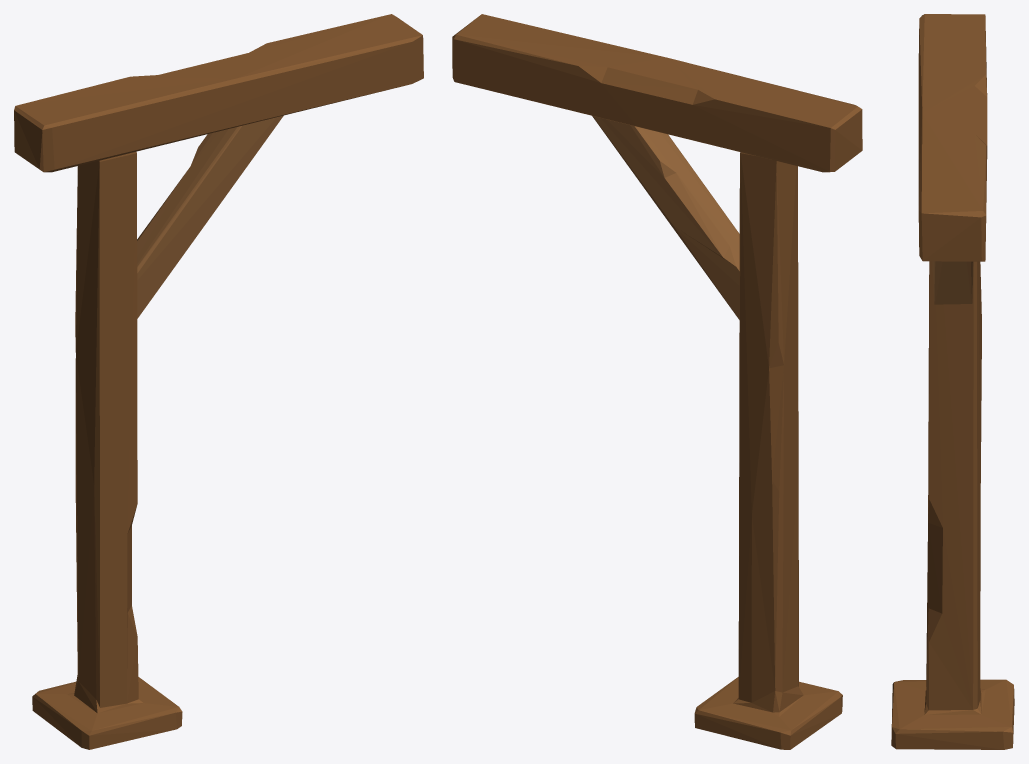
The model's file is LPCP_Hanging04.fbx.
3 renders of one model, left to right at view 1: azimuth 30°, elevation 25°; view 2: azimuth 150°, elevation 25°; view 3: azimuth 270°, elevation 25°, orthographic. The views are drawn at different scales.
Visible parts, largest first — view 1: LPCP_Hanging04; view 2: LPCP_Hanging04; view 3: LPCP_Hanging04.
Part boxes in pixels (x1,y1,x2,y2): LPCP_Hanging04: [14, 14, 423, 749]; LPCP_Hanging04: [452, 14, 862, 749]; LPCP_Hanging04: [891, 14, 1014, 749].
Size of the model in its own units: 5.09 by 7.89 by 1.31.
